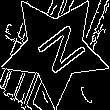N_SW: (25, 18, 85, 80)
